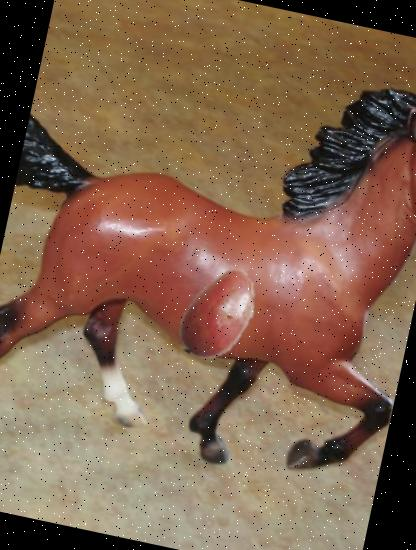Potato: (160, 256, 278, 374)
